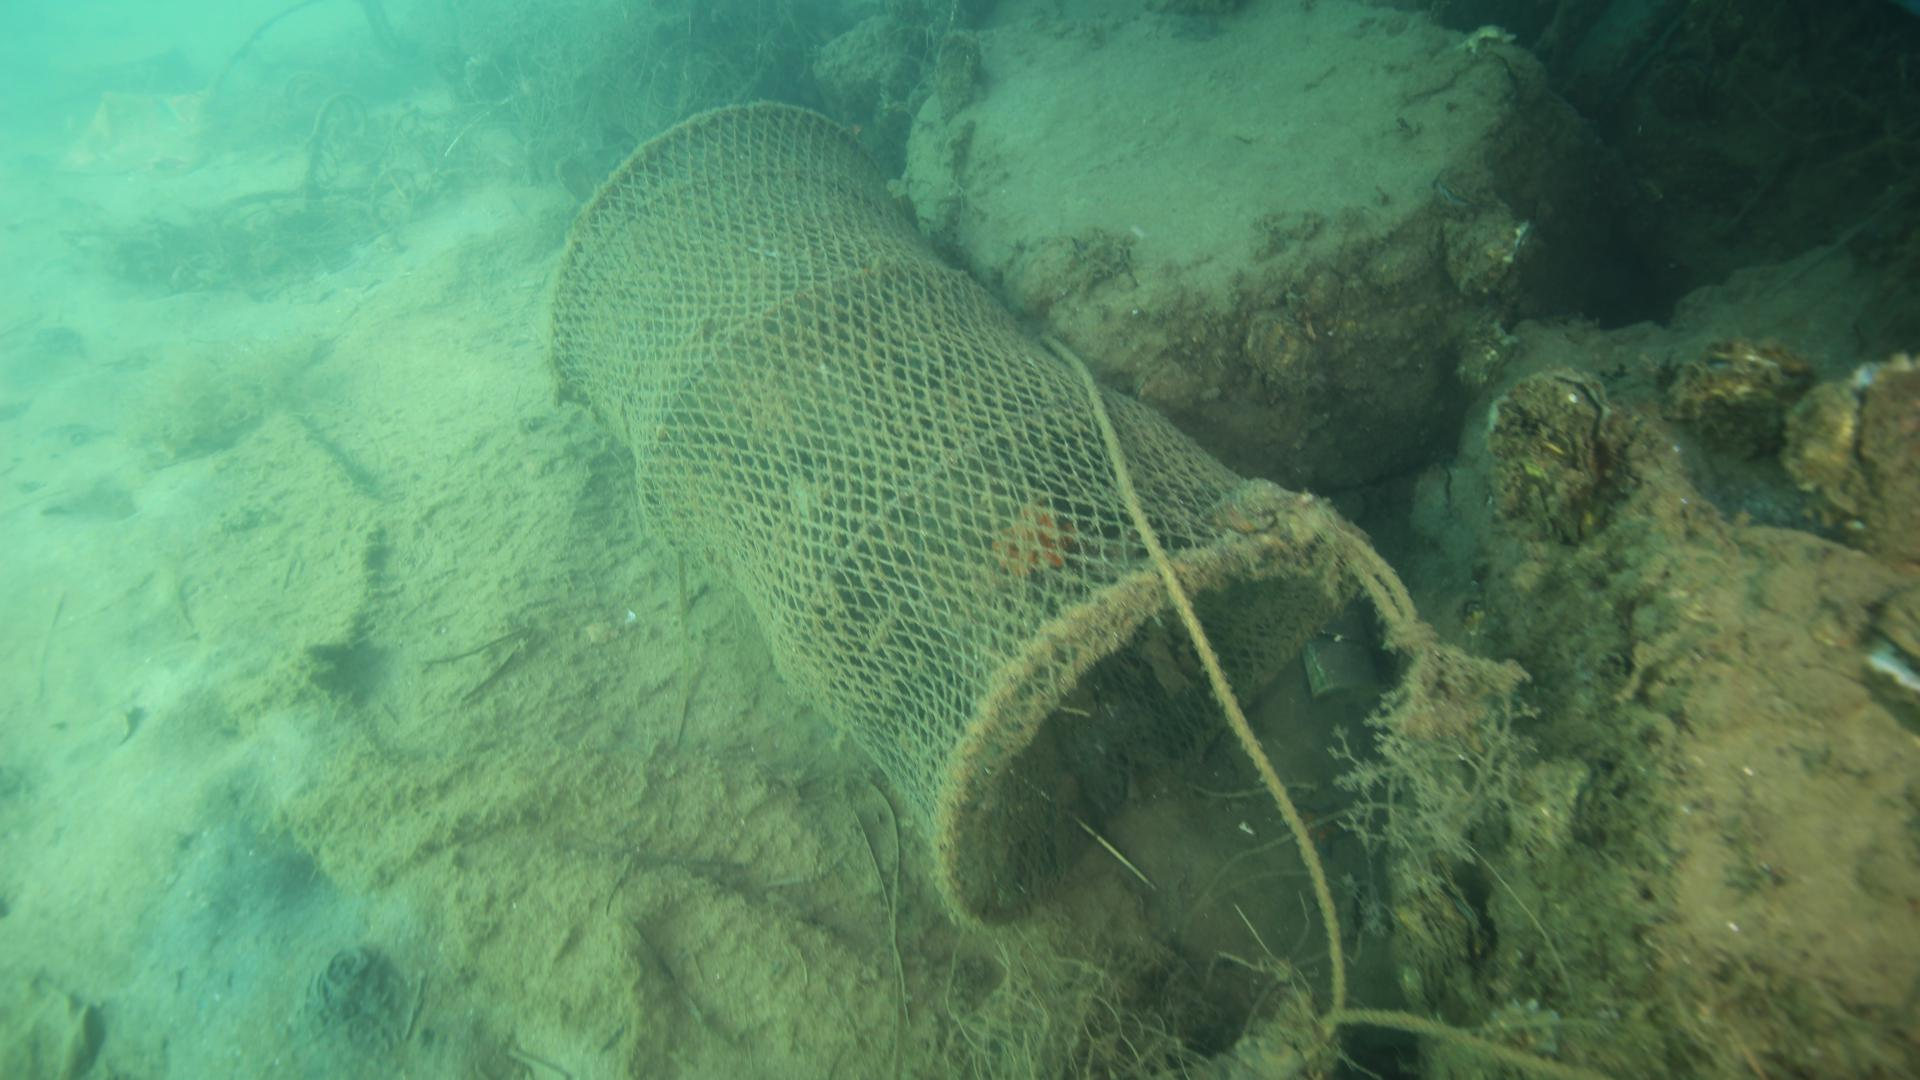bundle of ropes: (1307, 506, 1443, 662)
rope: (1033, 330, 1346, 1031), (1315, 1007, 1623, 1080)
spring fish trap: (525, 102, 1333, 942)
